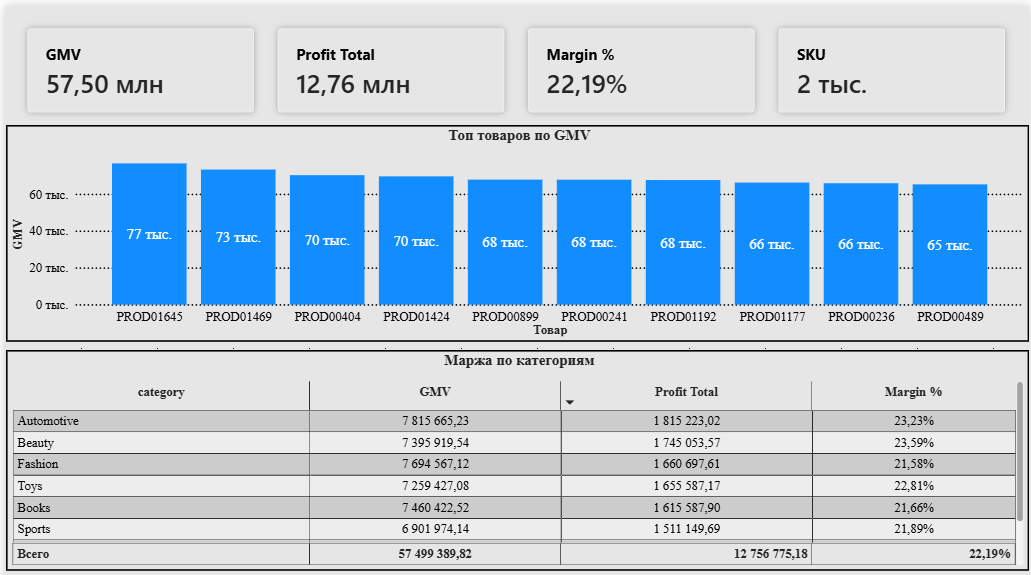

The page's visual inventory and layout, read from the dashboard file:
{"tool":"powerbi","page":{"name":"Products","canvas":[1280,720],"ordinal":2},"visuals":[{"type":"cardVisual","fields":{"Data":["clean_orders.GMV","clean_orders.Profit Total","clean_orders.Margin %","clean_orders.SKU"]},"box":[0,0,1280.6,161.2],"z":0},{"type":"clusteredColumnChart","title":"Топ товаров по GMV","fields":{"Y":["clean_orders.GMV"],"Category":["clean_orders.product_id"]},"box":[1.2,148.8,1279.4,271.4],"z":1000},{"type":"tableEx","title":"Маржа по категориям","fields":{"Values":["clean_orders.category","clean_orders.GMV","clean_orders.Profit Total","clean_orders.Margin %"]},"box":[1.2,430,1279.4,276.2],"z":2000}]}

Visuals, with their boxes in screenshot pixels (x1, y1, x2, y2), scaled from the page's 1280x720 canvas onto the 1031x575 screenshot:
cardVisual - clean_orders.GMV x clean_orders.Profit Total: region(0, 0, 1030, 129)
"Топ товаров по GMV" clusteredColumnChart: region(1, 119, 1030, 336)
"Маржа по категориям" tableEx: region(1, 343, 1030, 564)
